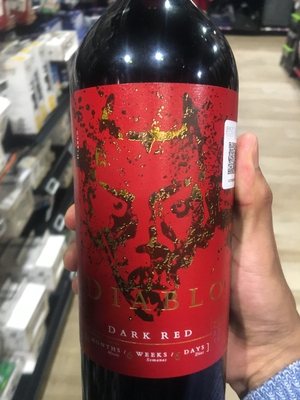diablo dark red: (59, 5, 242, 400)
